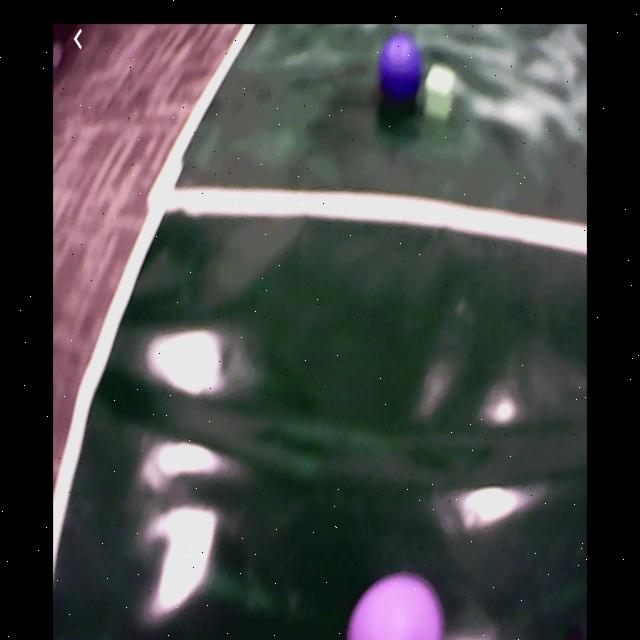ball: (348, 574, 448, 640), (381, 35, 423, 103)
